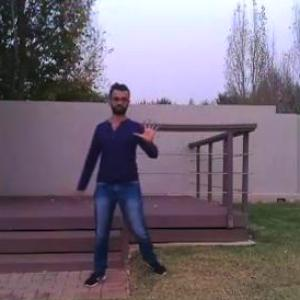follow_hand: (132, 112, 164, 146)
